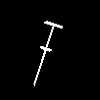double_crochet: (34, 21, 61, 85)
